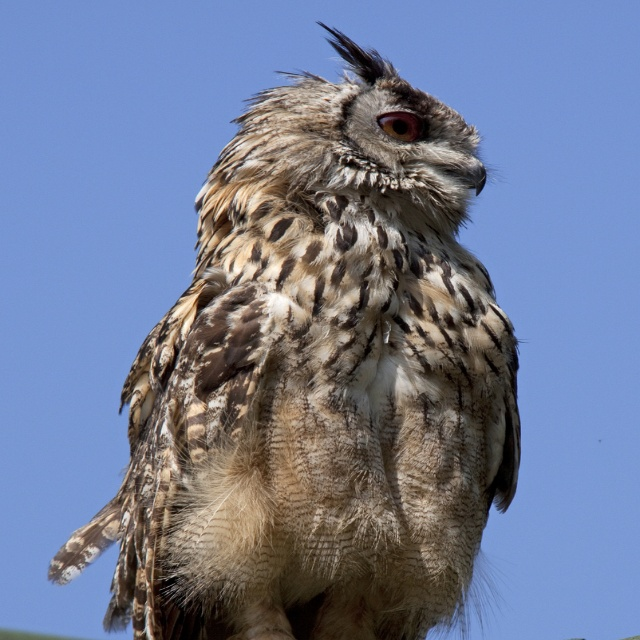Owl: (38, 18, 538, 640)
